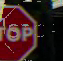Stop: (0, 4, 41, 59)
